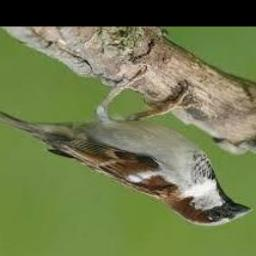Sparrow: (0, 68, 251, 227)
